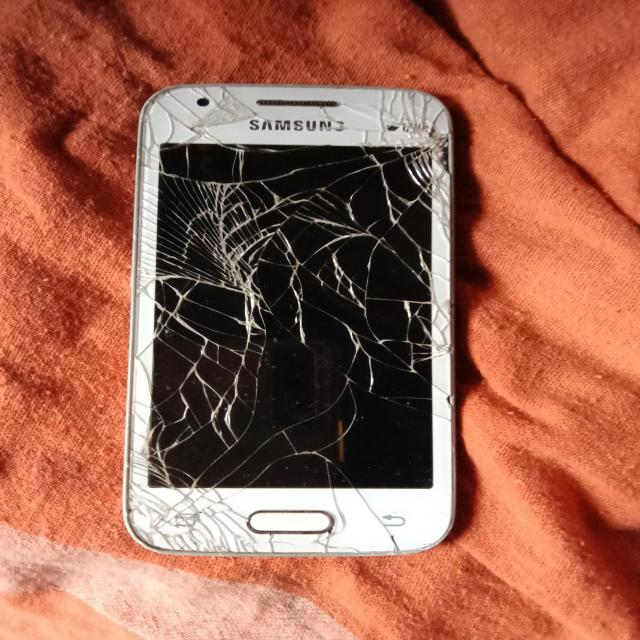Crack: (131, 220, 448, 553), (135, 82, 448, 217)
